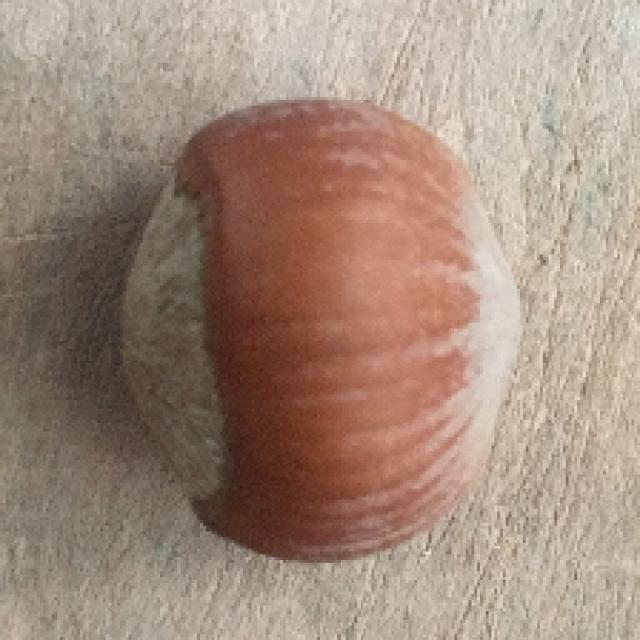qualityHazelnut: (121, 98, 524, 565)
